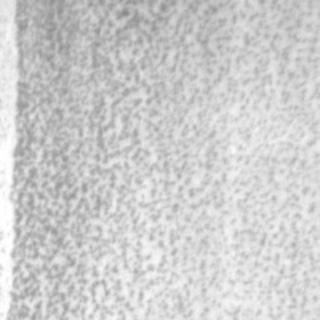pitted_surface: (14, 1, 318, 316)
